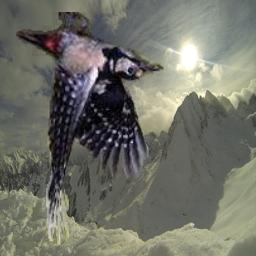Woodpecker: (16, 12, 165, 246)
